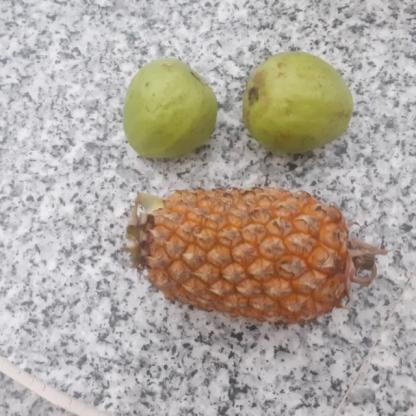guava: (238, 52, 353, 150), (120, 60, 219, 156)
pineapple: (126, 186, 367, 326)
